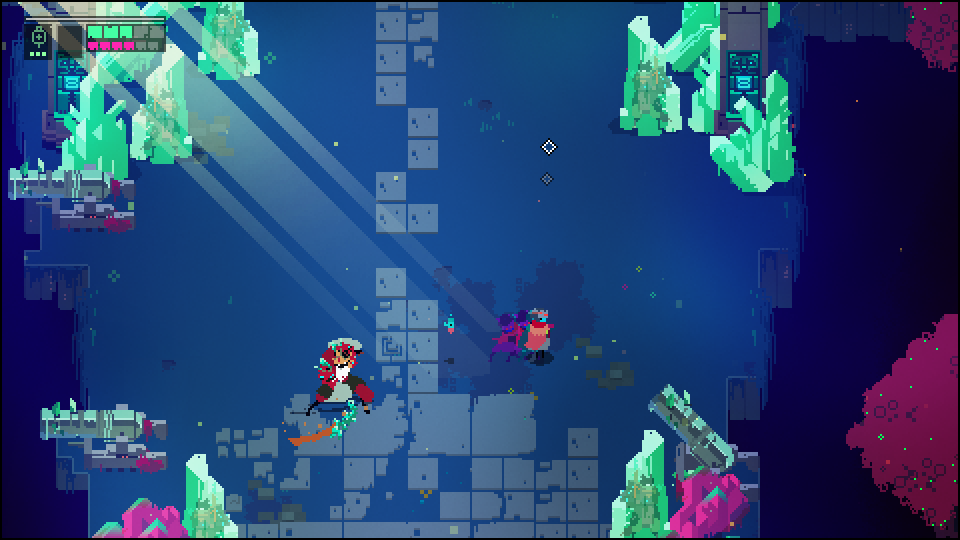hanged_man: (281, 335, 379, 442)
player: (522, 304, 554, 368)
